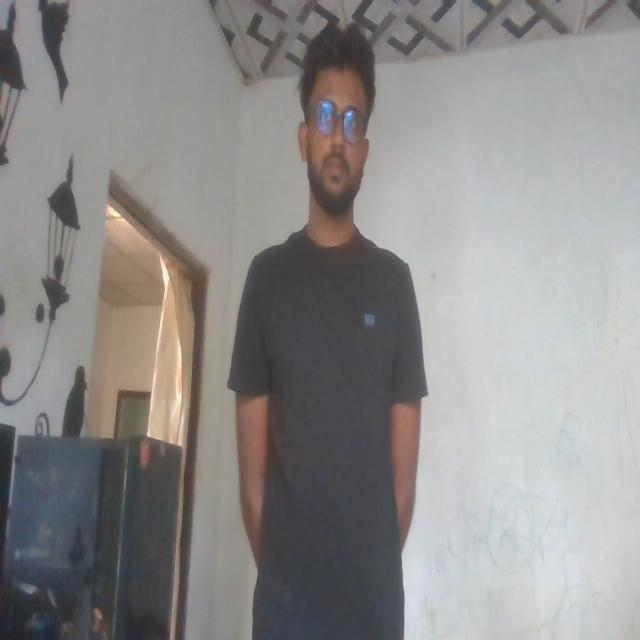Person: (220, 16, 424, 632)
